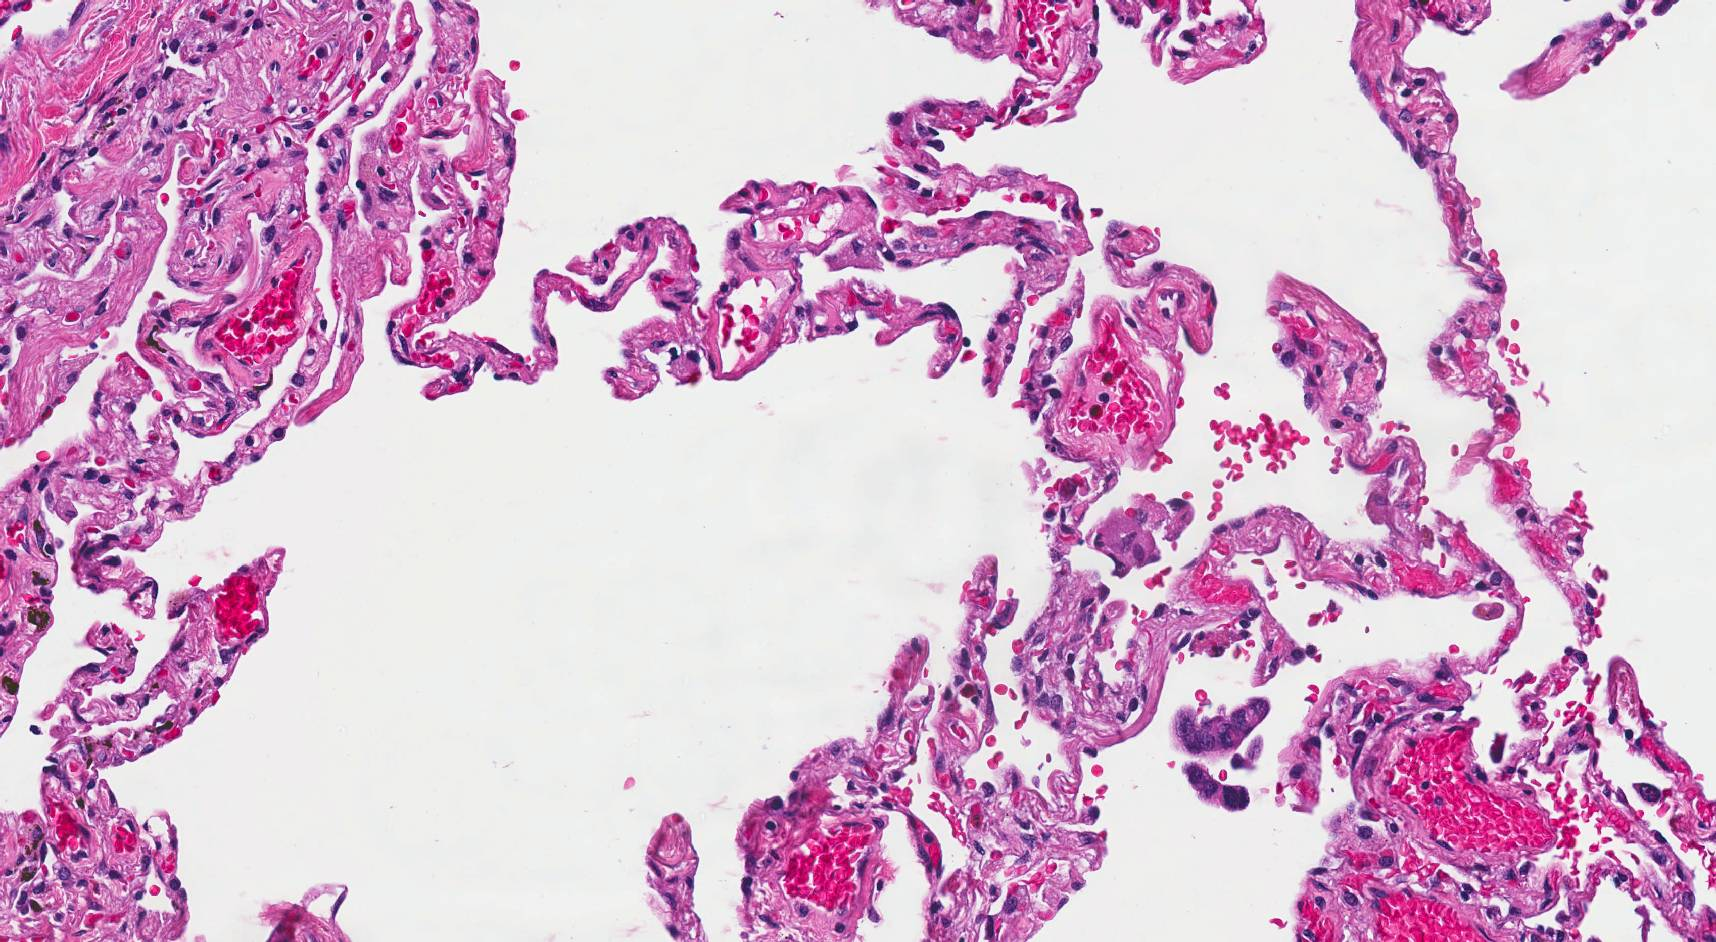stas: (1173, 694, 1275, 757), (1180, 762, 1252, 811)
